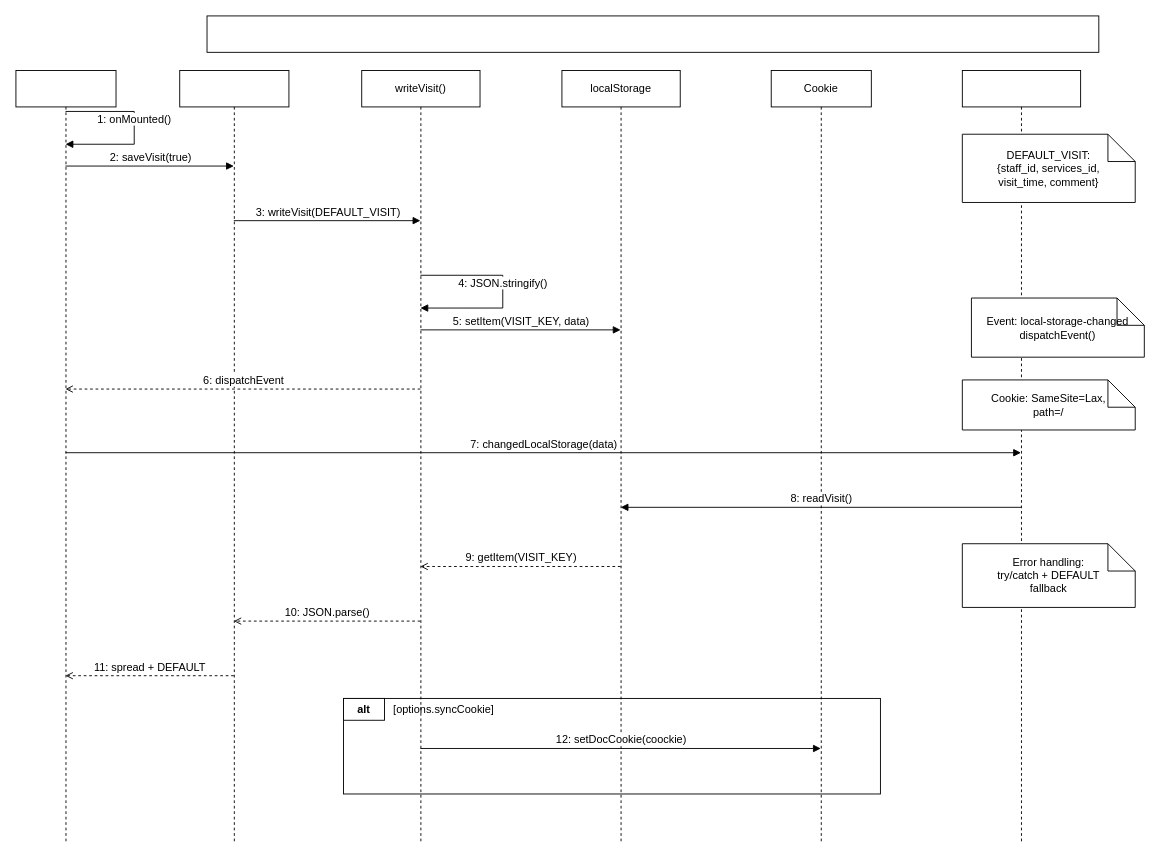
Image size: 1160x860. Some labels were removed from this diagram. The shapes that lost their labels are listed below. From the top down, each one's box as (x1, y1, x2, y2) in pixels, then its label:
(206, 15, 1099, 52): Диаграмма последовательности: Управление черновиком записи (Visit Storage)
(15, 70, 116, 844): App.vue
(179, 70, 289, 844): saveVisit()
(961, 70, 1081, 844): Event Listeners
